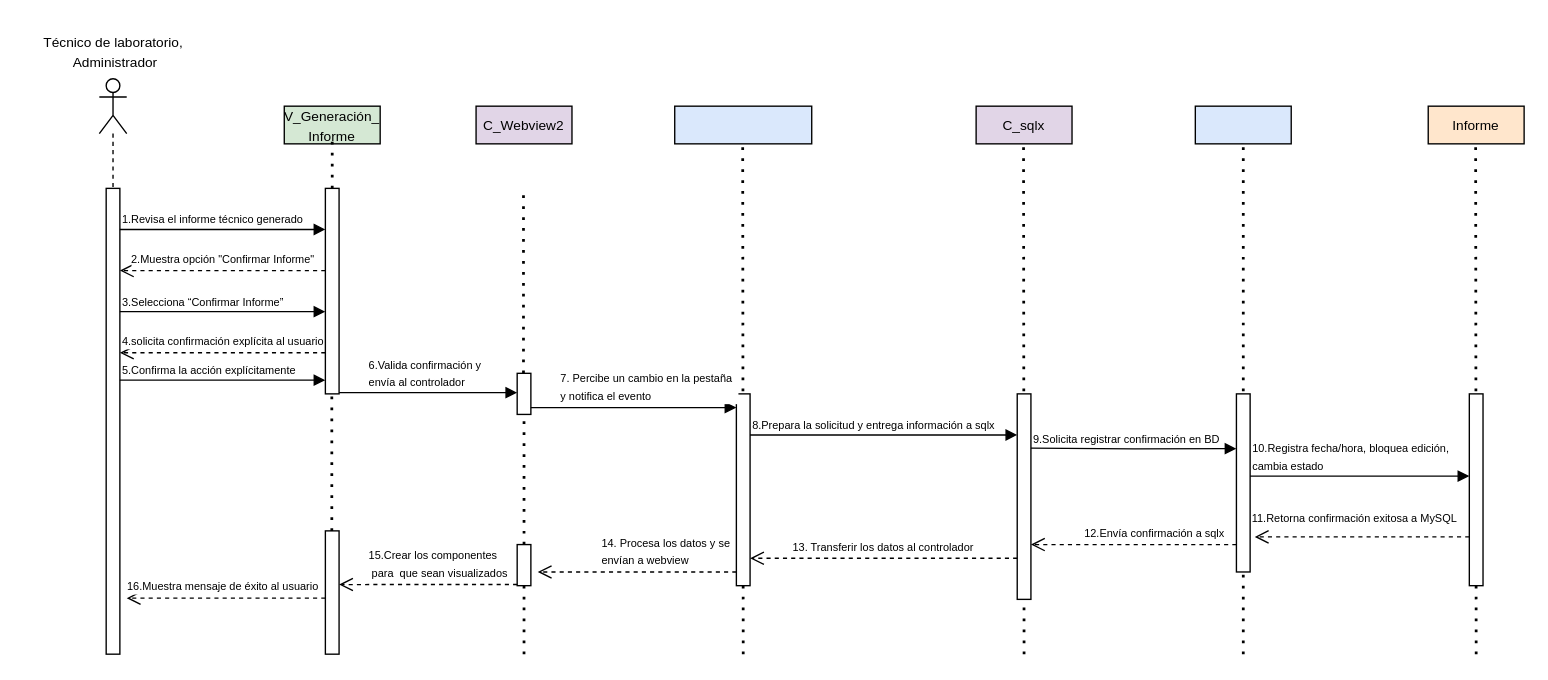
The diagram is 1548 pixels wide and 680 high, and some of its shapes have lost their labels. The centre of each missing label's shape, as x and y in pixels:
"C_Admin_Informe" belongs at (x=742, y=124).
"C_MySQL" belongs at (x=1242, y=124).
